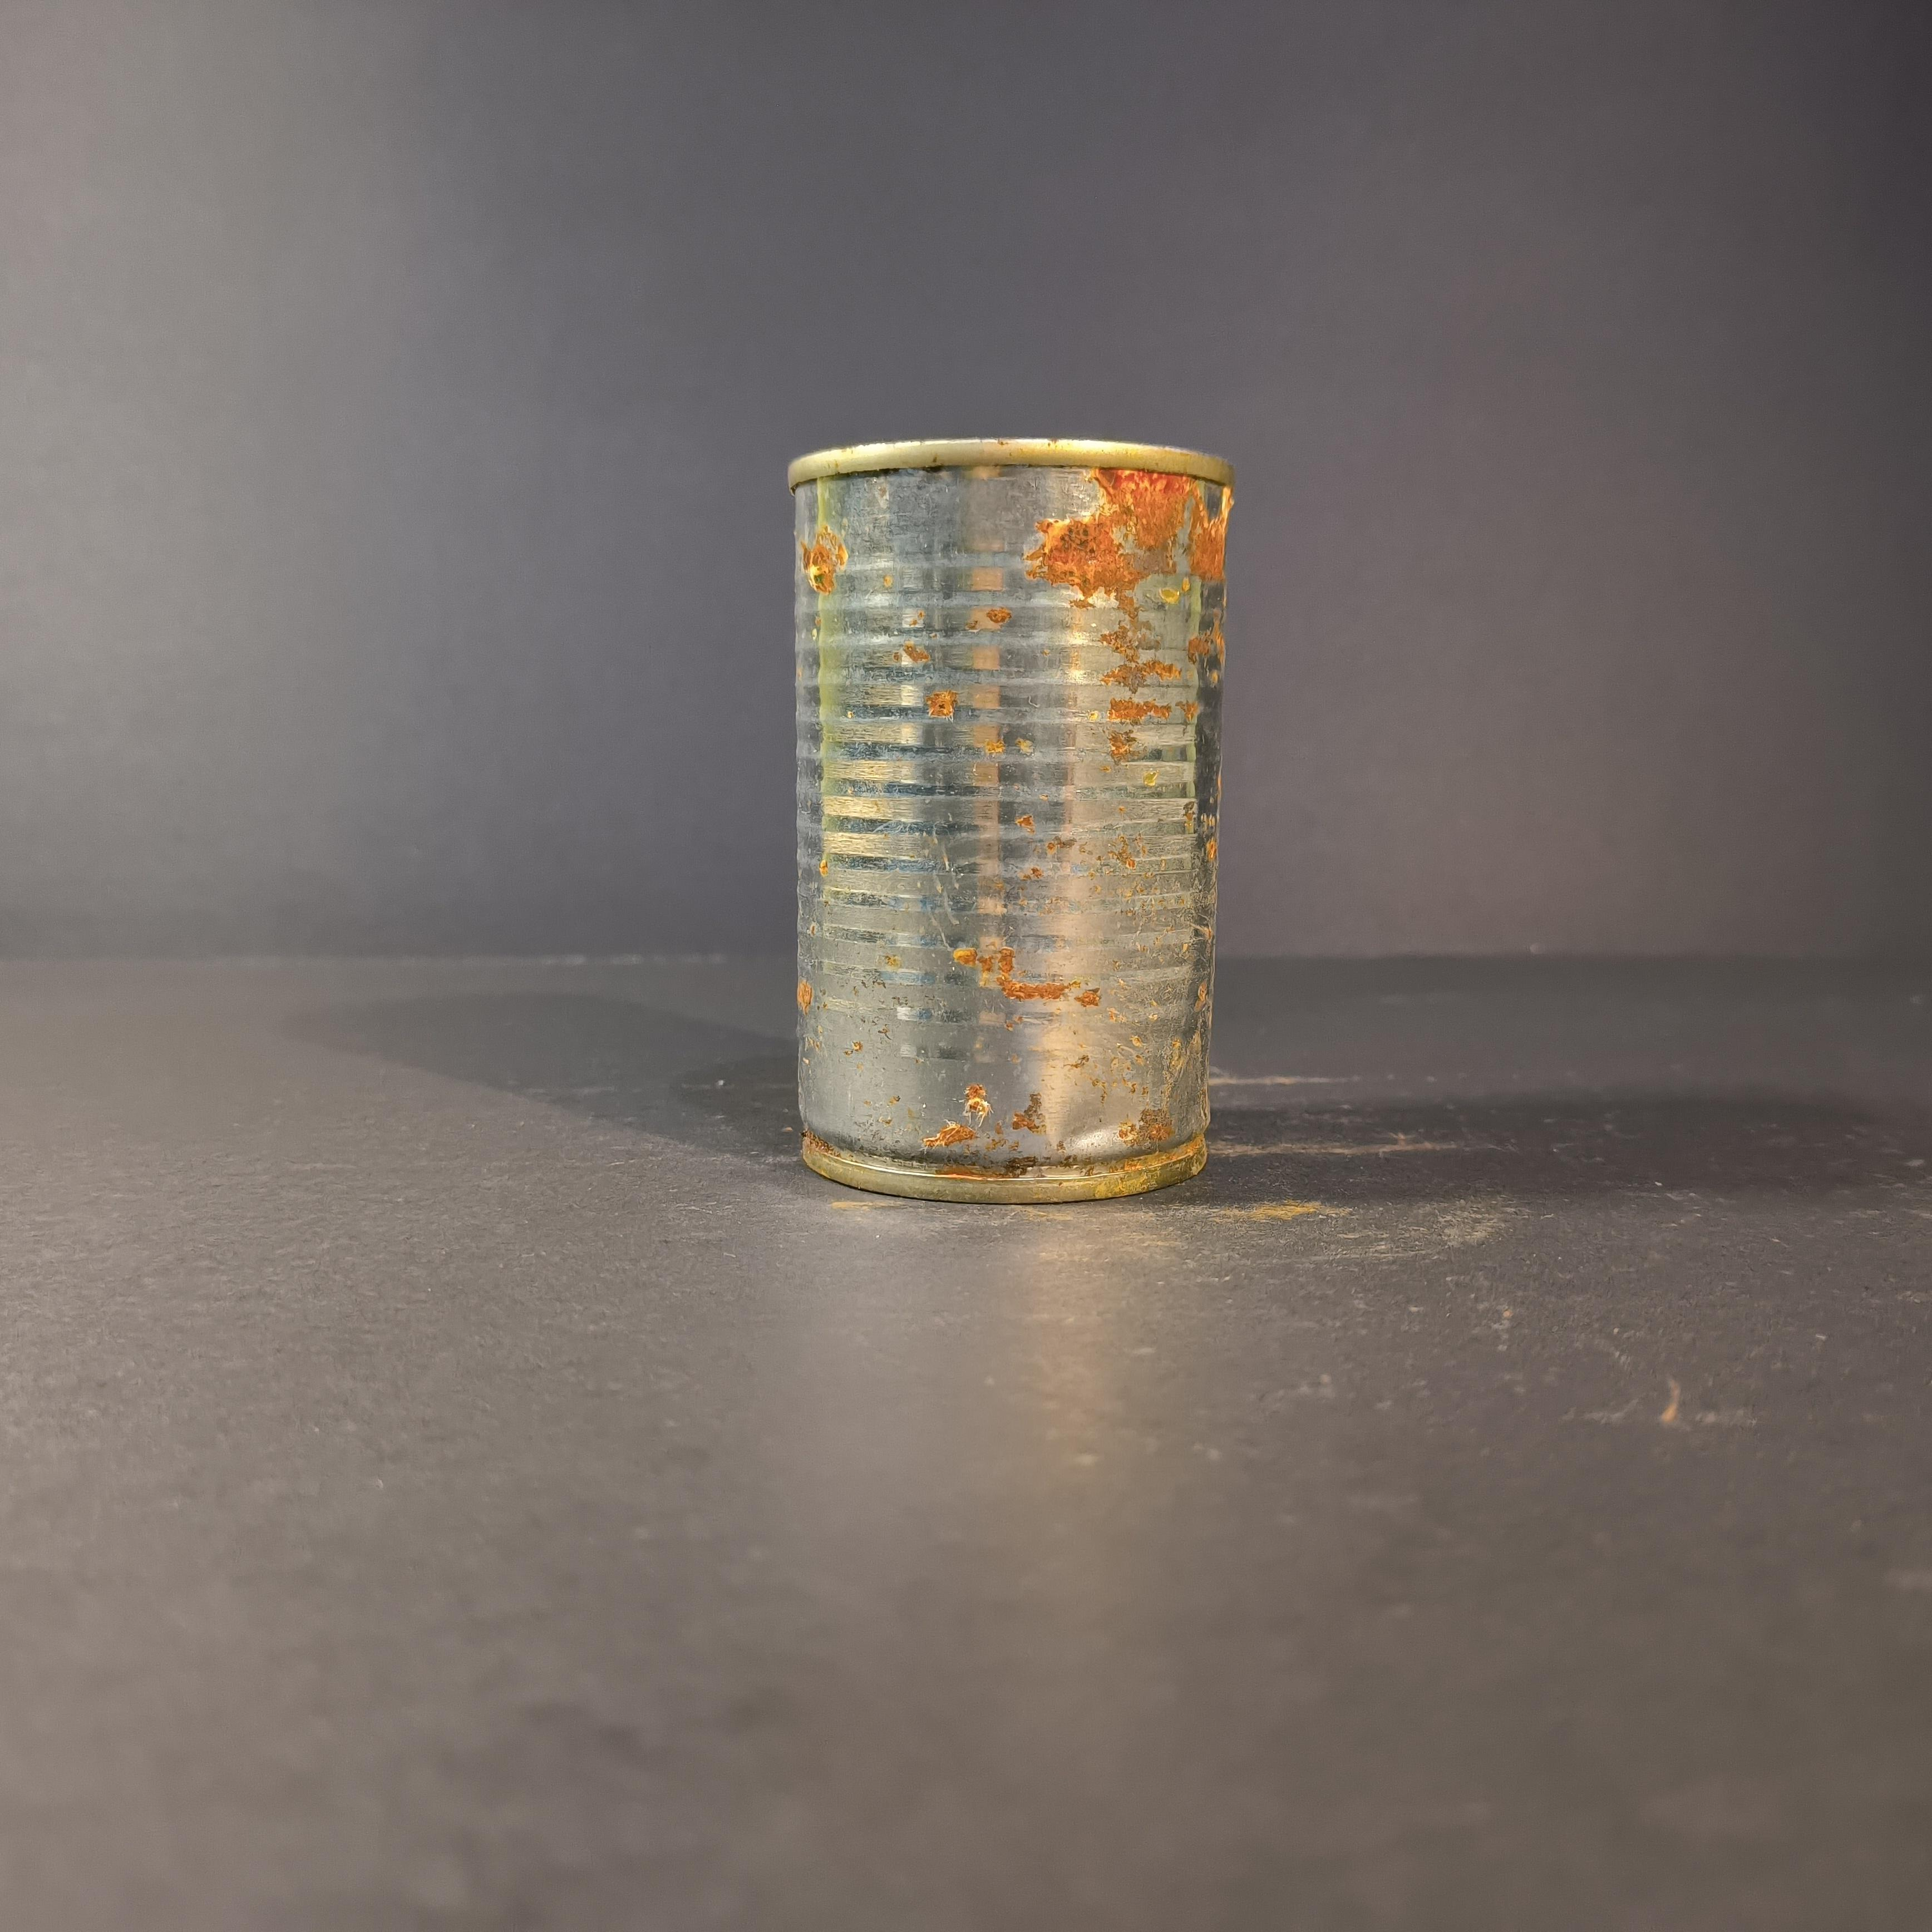Rusted: (768, 407, 1249, 1230)
